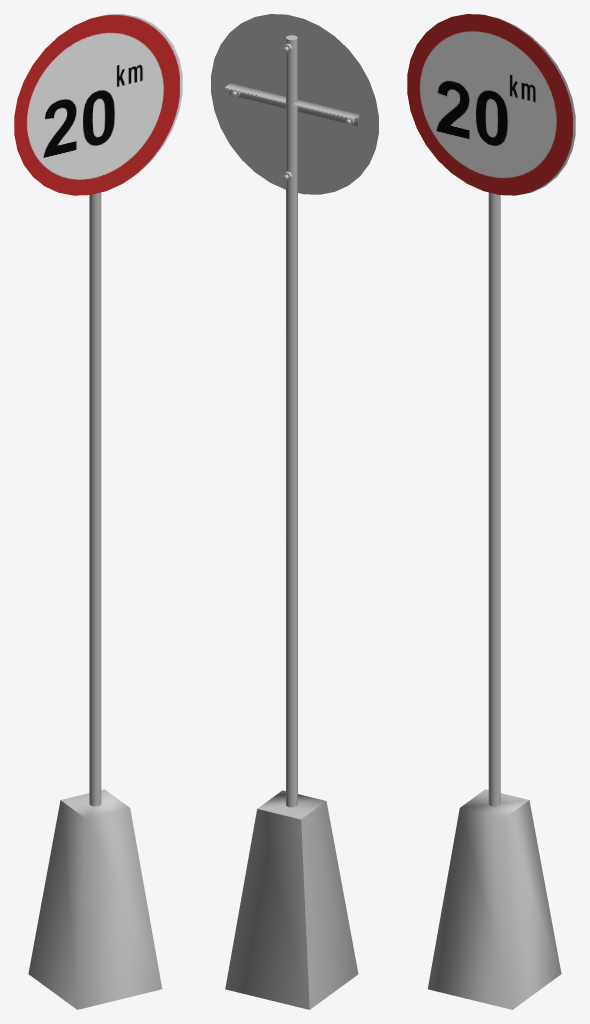
The model's file is Speed limit 20km.fbx.
The picture shows the model from 3 angles, left to right: view 1: azimuth 30°, elevation 25°; view 2: azimuth 150°, elevation 25°; view 3: azimuth 330°, elevation 25°; orthographic projection.
Parts seen in each view (by area): view 1: CommandSigns_A3; view 2: CommandSigns_A3; view 3: CommandSigns_A3.
Part boxes in pixels (x1=…): CommandSigns_A3: x1=14, y1=14, x2=182, y2=1009; CommandSigns_A3: x1=211, y1=14, x2=378, y2=1009; CommandSigns_A3: x1=407, y1=14, x2=575, y2=1009.
Size of the model in its own units: 59.57 by 327 by 30.
